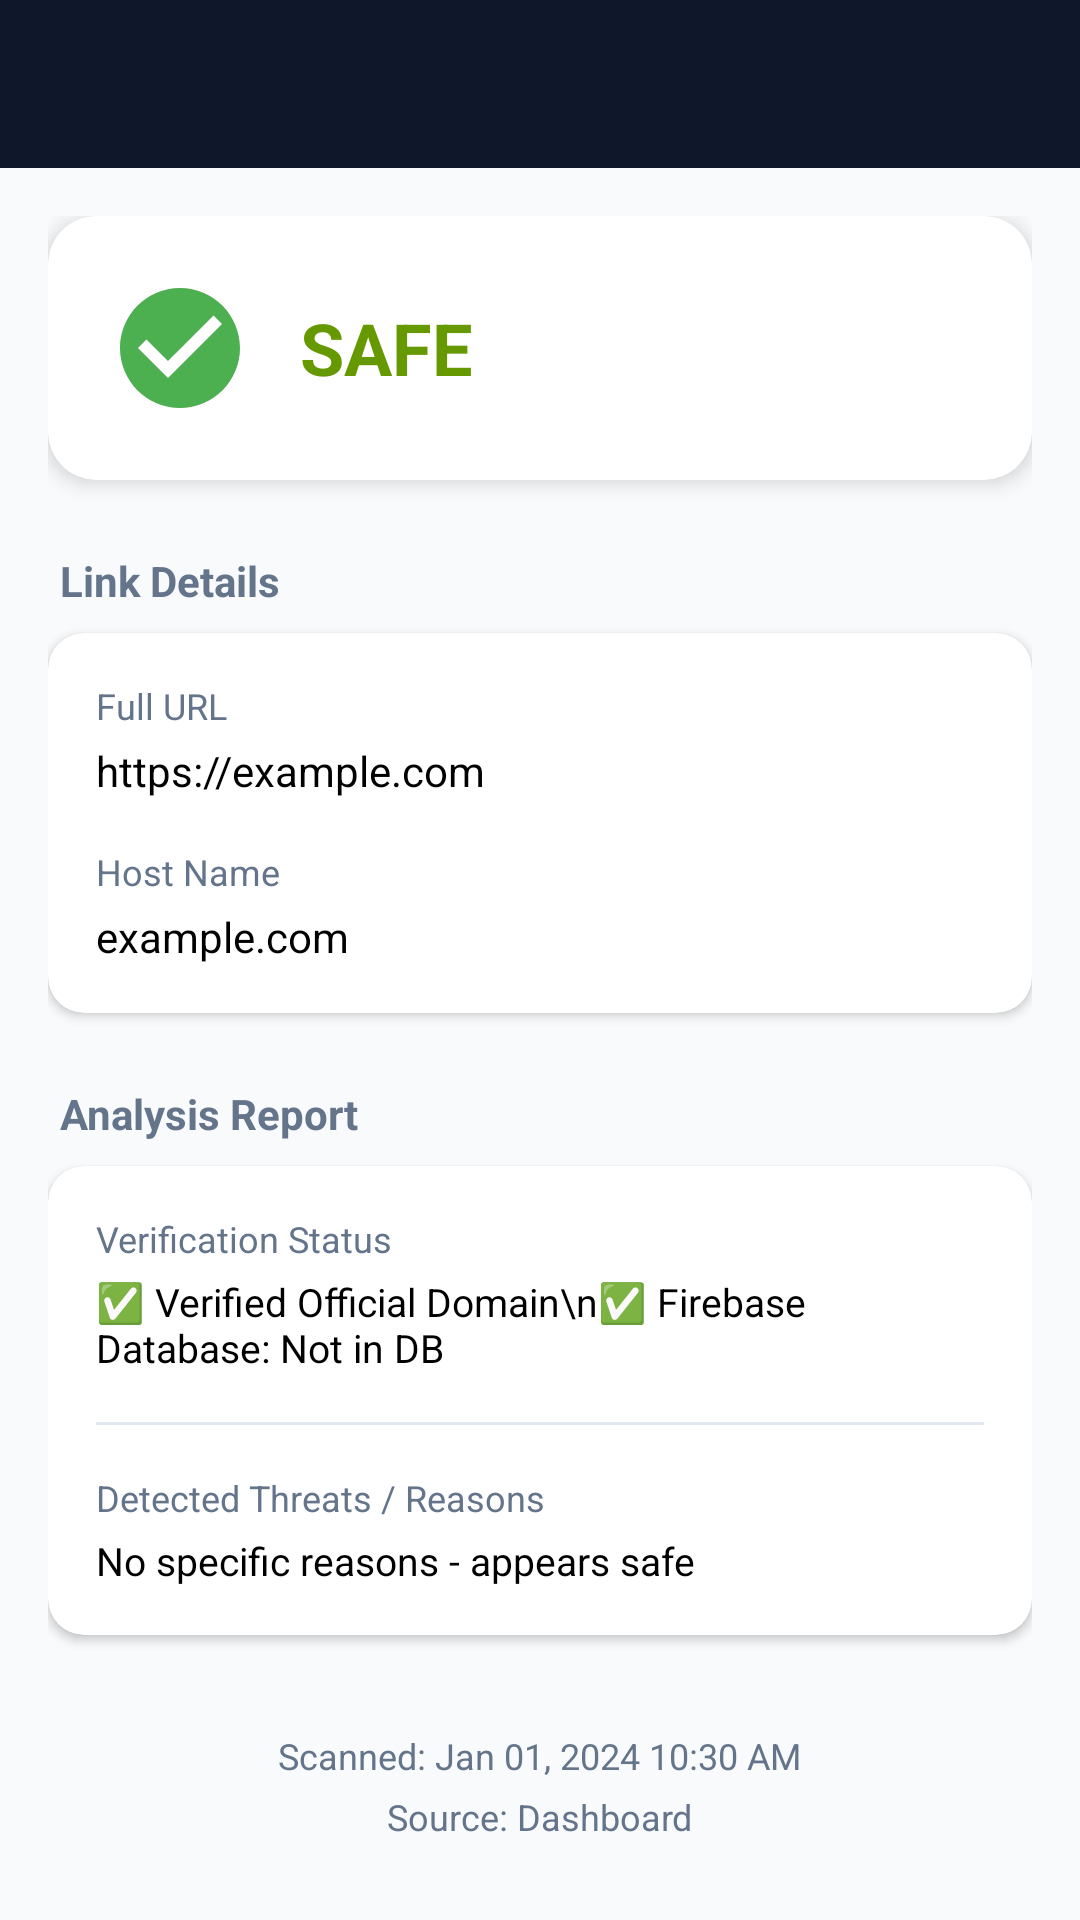

Screen size 1080x1920. Icon name, then its box in pixels as (x1, y1, x2, y2):
check circle: (120, 288, 240, 408)
